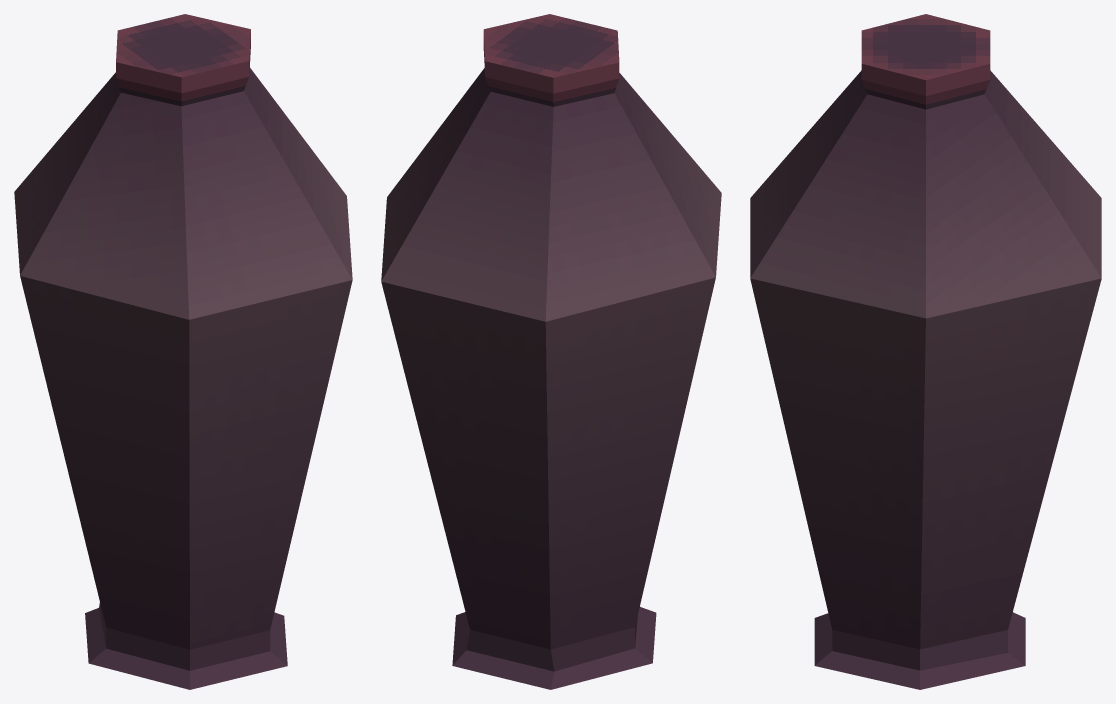
Rendered from pot.glb.
The picture shows the model from 3 angles, left to right: view 1: azimuth 30°, elevation 25°; view 2: azimuth 150°, elevation 25°; view 3: azimuth 270°, elevation 25°; orthographic projection.
Visible parts, largest first — view 1: circle; view 2: circle; view 3: circle.
Boxes of the visible parts, <box> form: circle: <box>14,14,352,689</box>; circle: <box>381,14,721,689</box>; circle: <box>750,14,1101,689</box>.
Bounding box in the file's own units: 0.4047 × 0.7 × 0.375.
Materials: 1 (1 with a texture image).
